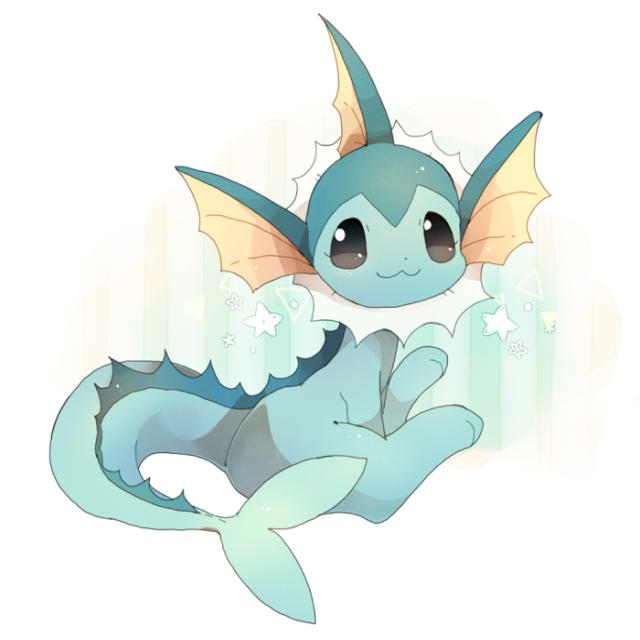Vaporeon: (180, 98, 548, 518)
